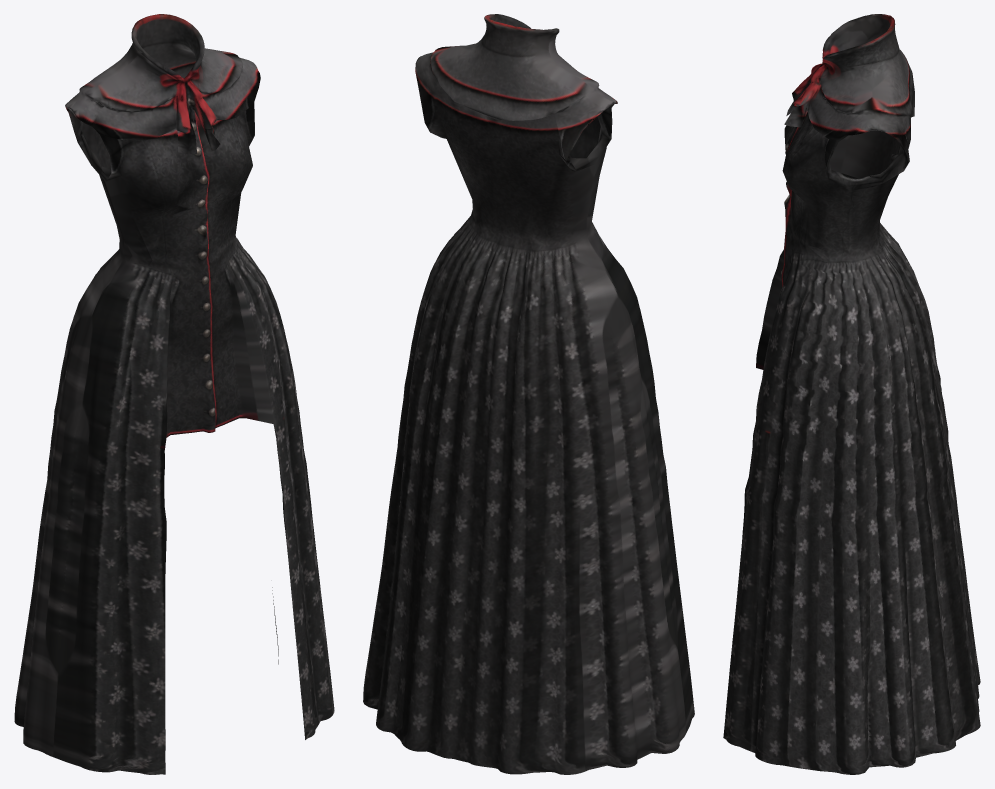
The model's file is maren-dress-v3.glb.
3 views of the same model, side by side, from view 1: azimuth 30°, elevation 25°; view 2: azimuth 150°, elevation 25°; view 3: azimuth 270°, elevation 25° (orthographic). The views are drawn at different scales.
Parts seen in each view (by area): view 1: maren-dress-36k-v1; view 2: maren-dress-36k-v1; view 3: maren-dress-36k-v1.
Boxes of the visible parts, x1,y1,x2,y2 form: maren-dress-36k-v1: [14, 14, 334, 774]; maren-dress-36k-v1: [363, 14, 694, 774]; maren-dress-36k-v1: [723, 14, 980, 774].
Bounding box in the file's own units: 0.4424 × 0.9879 × 0.3377.
Materials: 1 (1 with a texture image).
